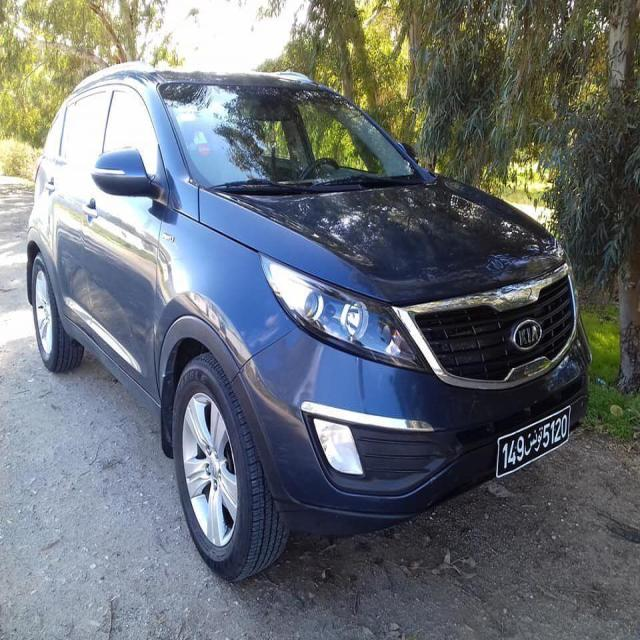LP: (494, 402, 574, 478)
